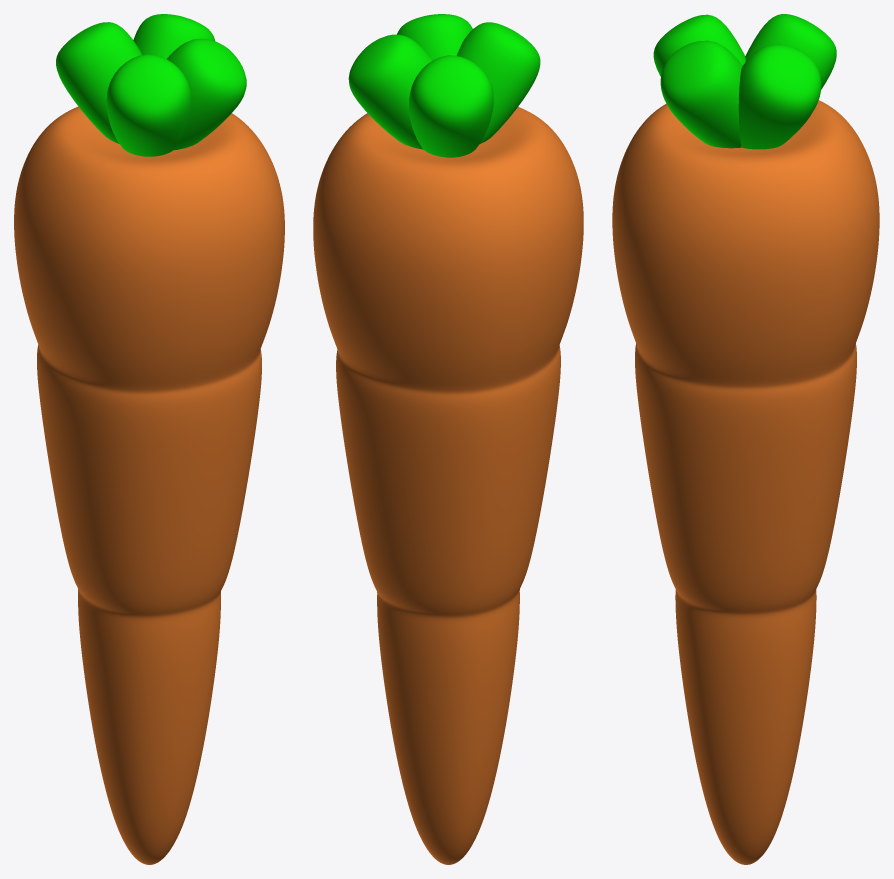
The model's file is wortel.fbx.
The picture shows the model from 3 angles, left to right: view 1: azimuth 30°, elevation 25°; view 2: azimuth 150°, elevation 25°; view 3: azimuth 270°, elevation 25°; orthographic projection.
Parts seen in each view (by area): view 1: Cube, Cube.001, Cube.002, Cube.004, Cube.003; view 2: Cube, Cube.002, Cube.003, Cube.001, Cube.004; view 3: Cube, Cube.003, Cube.004, Cube.002, Cube.001.
Boxes of the visible parts, <box> form: Cube: <box>14,106,284,864</box>; Cube.001: <box>106,54,190,156</box>; Cube.002: <box>56,22,141,143</box>; Cube.004: <box>167,38,246,150</box>; Cube.003: <box>133,14,215,58</box>; Cube: <box>313,107,583,864</box>; Cube.002: <box>409,55,493,157</box>; Cube.003: <box>348,34,432,149</box>; Cube.001: <box>456,22,540,143</box>; Cube.004: <box>397,14,472,59</box>; Cube: <box>612,100,879,864</box>; Cube.003: <box>738,44,821,149</box>; Cube.004: <box>660,40,742,148</box>; Cube.002: <box>745,14,836,89</box>; Cube.001: <box>653,14,745,76</box>.
Bounding box in the file's own units: 171 × 588 × 171.
